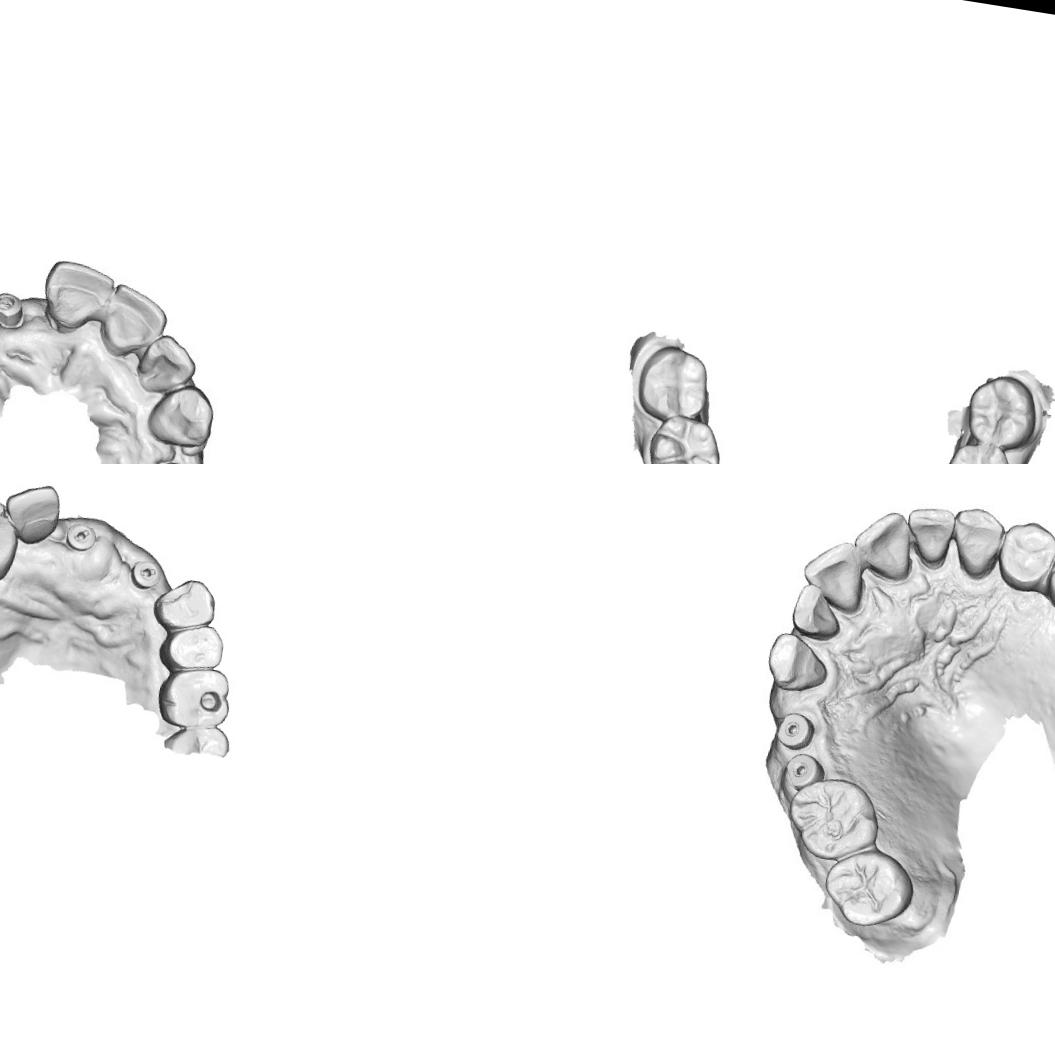canine: (944, 499, 1010, 583), (761, 626, 834, 698), (0, 493, 25, 589), (93, 528, 135, 574)
implant: (774, 706, 818, 749), (782, 748, 823, 790), (0, 288, 28, 335), (149, 455, 197, 464)
implant_minus: (62, 518, 100, 554), (125, 556, 163, 592)
incisor: (95, 278, 172, 356), (38, 254, 116, 330), (799, 536, 870, 615), (132, 329, 202, 399), (854, 505, 917, 582), (0, 476, 64, 549), (904, 498, 956, 570), (790, 587, 844, 639)
molar: (816, 843, 916, 936), (783, 773, 880, 863), (632, 340, 716, 428), (962, 369, 1042, 453), (151, 659, 236, 735), (642, 409, 727, 464), (162, 719, 232, 758), (935, 436, 1017, 464)
premolar: (148, 383, 222, 453), (994, 513, 1055, 596), (149, 572, 220, 638), (156, 618, 227, 678), (1042, 542, 1055, 619)
